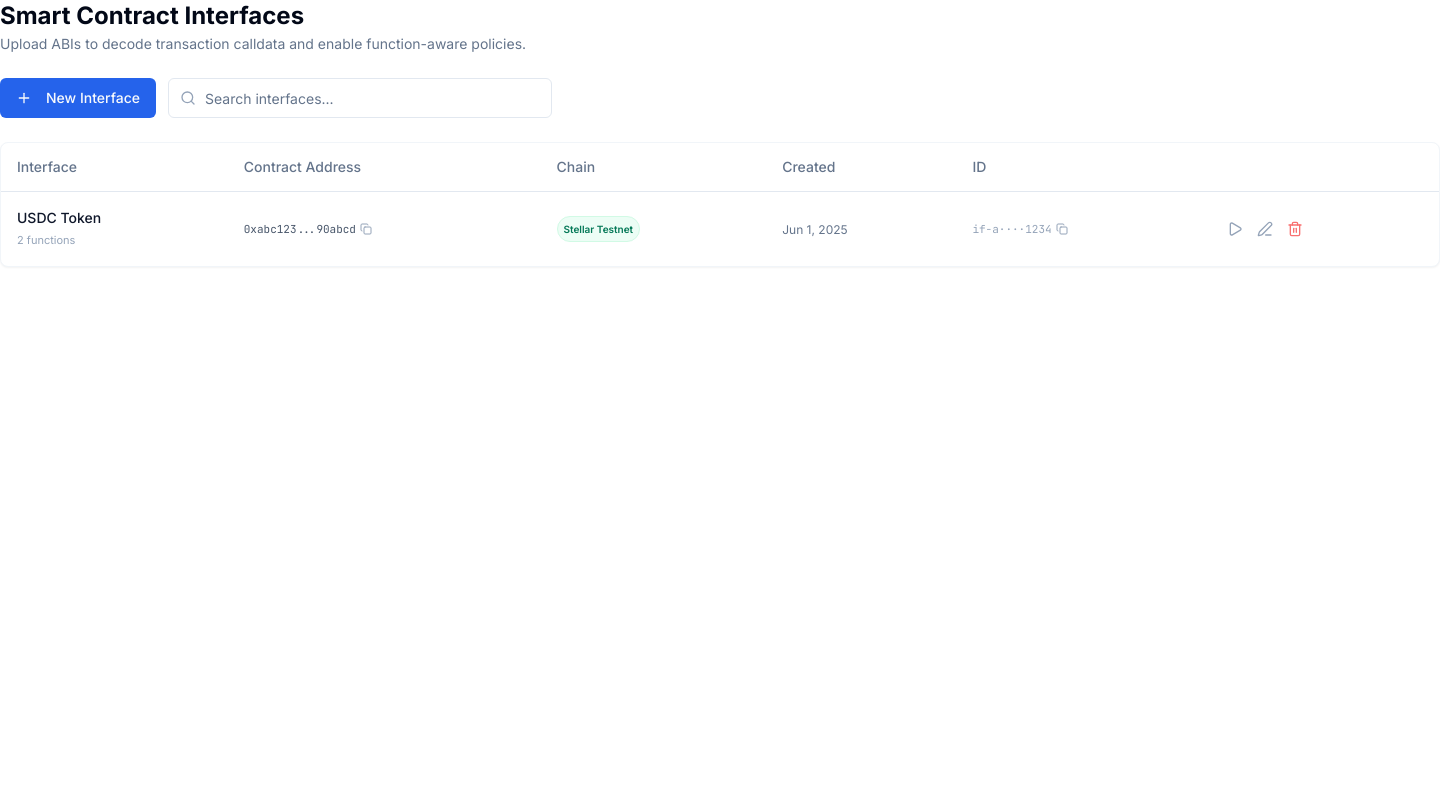
Test: Contract Interfaces Page › Decode modal › opens decode modal via play button
This screenshot has width=1440, height=810.
Check: the text "USDC Token" is shown, box 17,208 -> 101,226
Step 1. Click the 4th button → (1235,228), box 1221,214 -> 1249,242
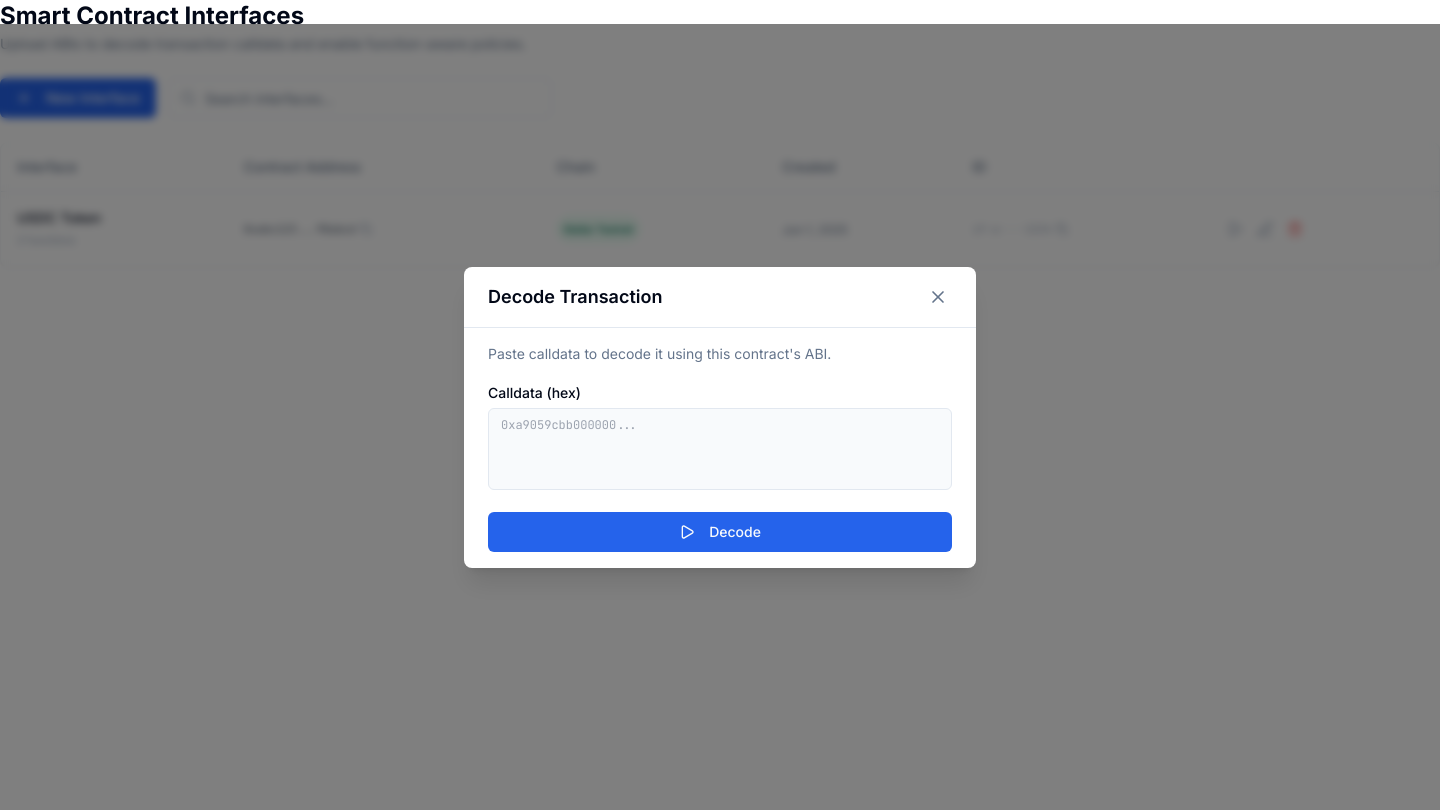
Check: the heading "Decode Transaction" is shown, box 488,282 -> 662,310
